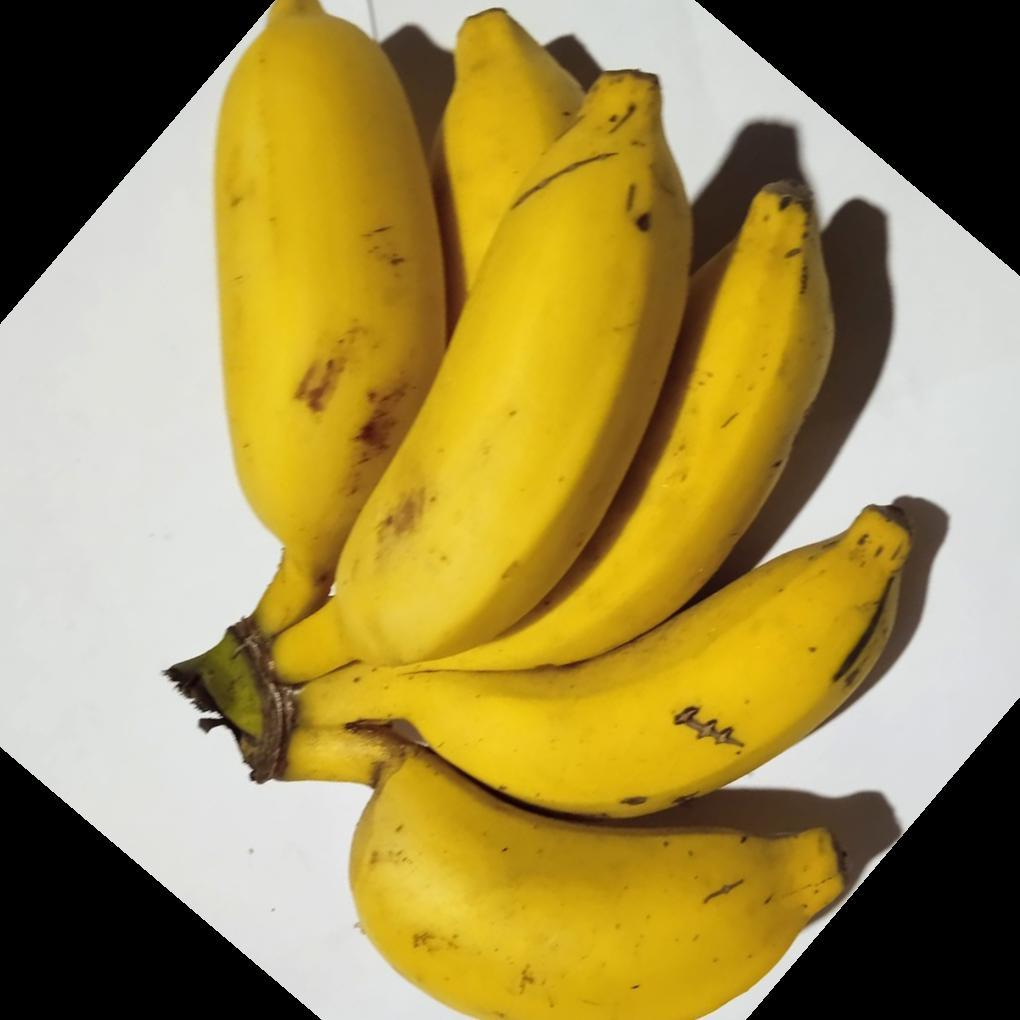Banana Ripe: (170, 1, 1020, 1019), (212, 63, 797, 1020), (308, 69, 697, 696)
